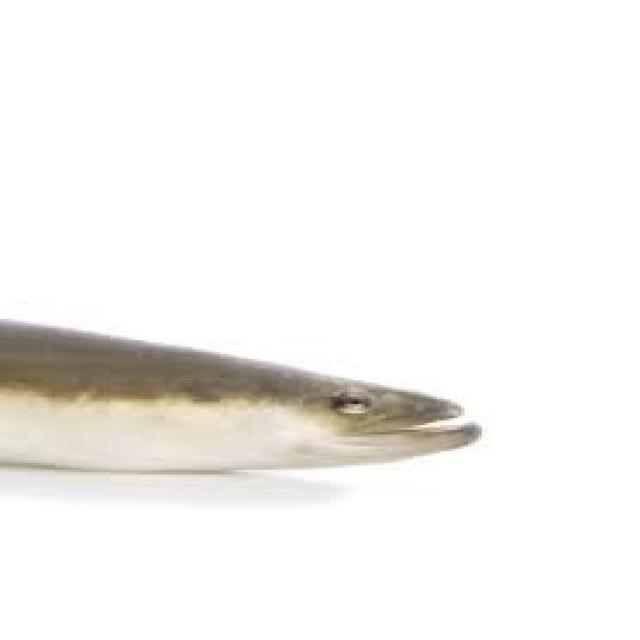Freshwater-Eel: (0, 269, 547, 534)
